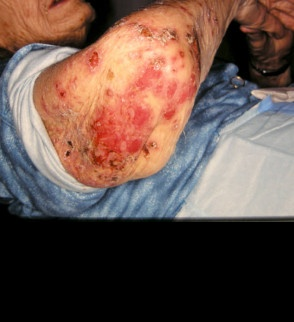SJS-TEN: (6, 0, 294, 223)
